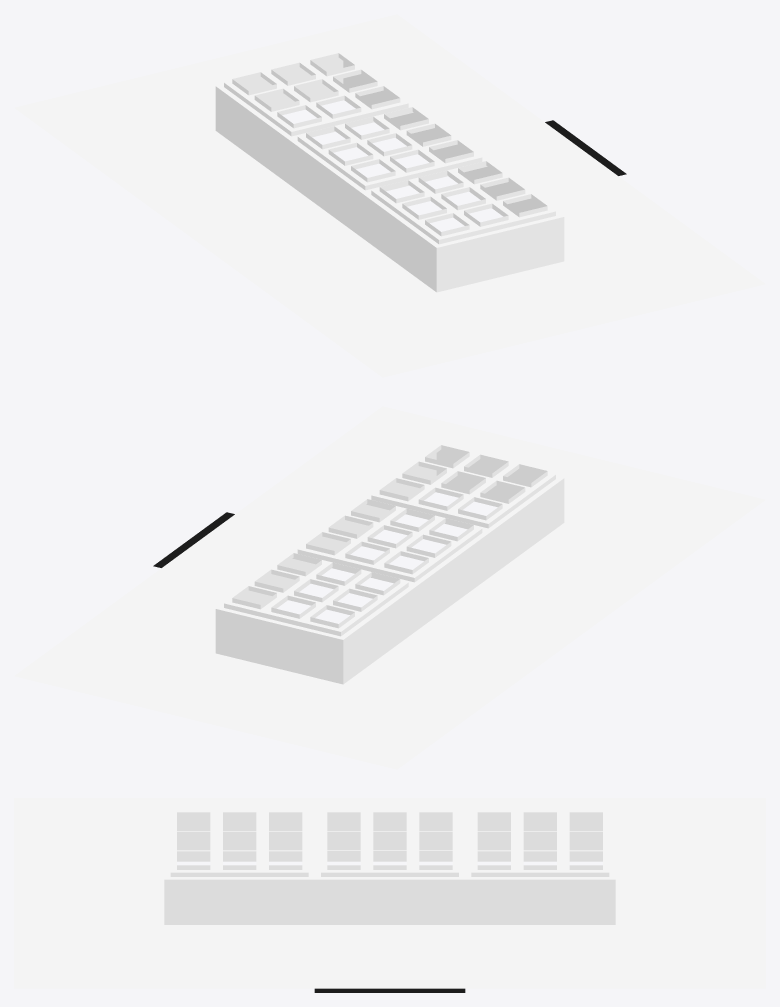
Rendered from west-ceiling.glb.
The picture shows the model from 3 angles, top to bottom: view 1: azimuth 30°, elevation 25°; view 2: azimuth 150°, elevation 25°; view 3: azimuth 270°, elevation 25°; orthographic projection.
Parts seen in each view (by area): view 1: HallWest_Ceiling; view 2: HallWest_Ceiling; view 3: HallWest_Ceiling.
Part boxes in pixels (box(x1,y1,x2,y2)): HallWest_Ceiling: box(14, 14, 765, 377); HallWest_Ceiling: box(14, 406, 765, 769); HallWest_Ceiling: box(14, 798, 765, 992).
Bounding box in the file's own units: 9.2 × 1.2 × 15.
Materials: 1 (1 with a texture image).
